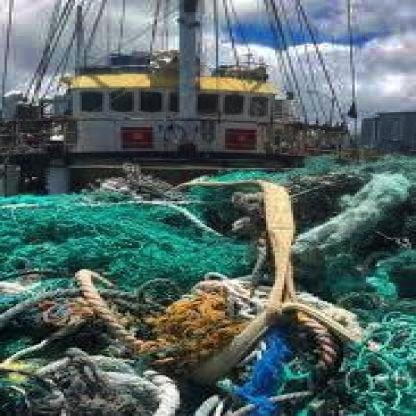net: (2, 198, 402, 416)
